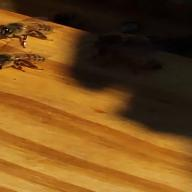Bee: (0, 15, 64, 47), (0, 48, 54, 71)
